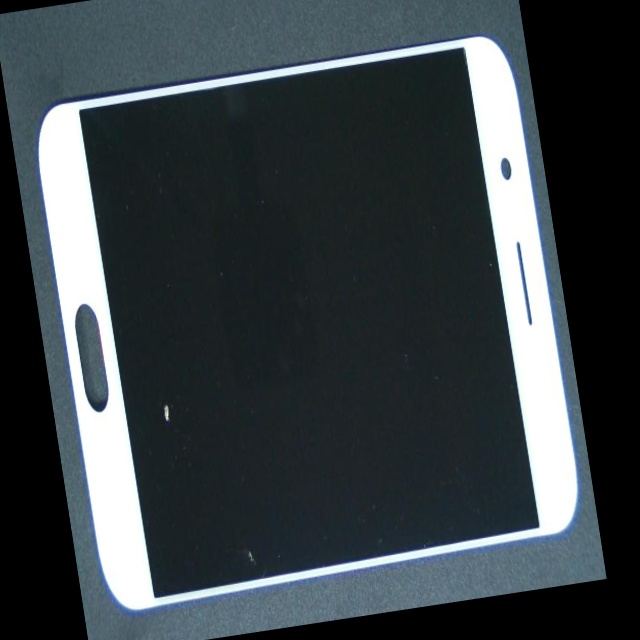stain: (77, 156, 236, 599)
